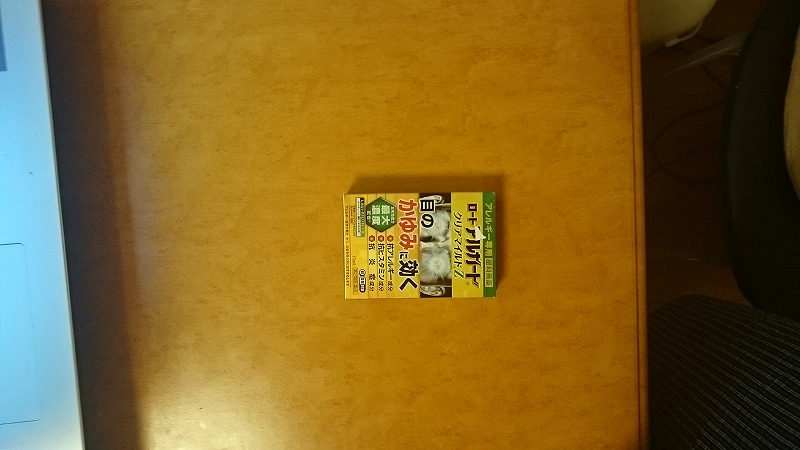C: (331, 183, 510, 314)
